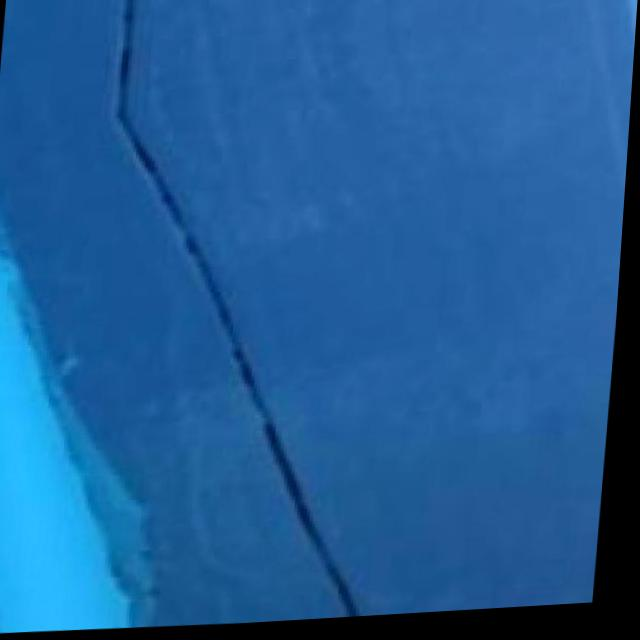Crack: (56, 0, 453, 636)
